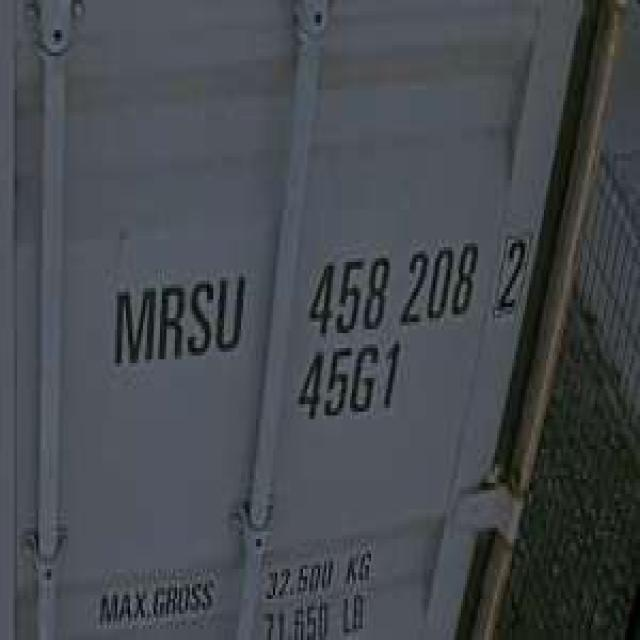dv: (493, 221, 533, 322)
owner: (105, 258, 252, 374)
serial: (299, 232, 480, 341)
size: (292, 337, 408, 427)
